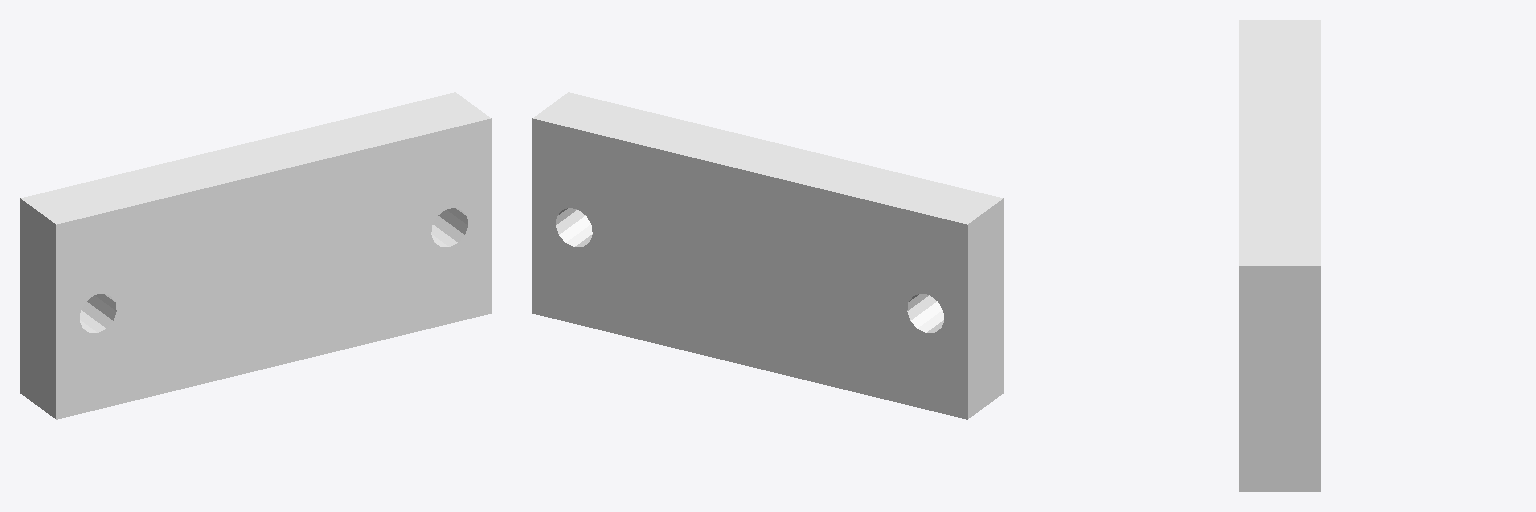
URDF robot description (rigid):
<?xml version="1.0" encoding="utf-8"?>
<!-- This URDF was automatically created by SolidWorks to URDF Exporter! Originally created by [author] ([email redacted]) 
     Commit Version: 1.6.0-4-g7f85cfe  Build Version: 1.6.7995.38578
     For more information, please see http://wiki.ros.org/sw_urdf_exporter -->
<robot
  name="rigid">
  <link
    name="base_link">
    <inertial>
      <origin
        xyz="0 0.25 2.22044604925031E-16"
        rpy="0 0 0" />
      <mass
        value="0.00000423" />
      <inertia
        ixx="544.993861067578"
        ixy="1.13335267097151E-14"
        ixz="2.3443710807071E-13"
        iyy="3029.73989963635"
        iyz="-2.31111593326468E-30"
        izz="2591.17579545603" />
    </inertial>
    <visual>
      <origin
        xyz="0 0 0"
        rpy="0 0 0" />
      <geometry>
        <mesh
          filename="package://rigid/meshes/base_link.STL" />
      </geometry>
      <material
        name="">
        <color
          rgba="1 1 1 1" />
      </material>
    </visual>
    <collision>
      <origin
        xyz="0 0 0"
        rpy="0 0 0" />
      <geometry>
        <mesh
          filename="package://rigid/meshes/base_link.STL" />
      </geometry>
    </collision>
  </link>
</robot>

--- Facts derived from the render (not from the file) ---
The picture shows the robot from 3 angles, left to right: view 1: azimuth 30°, elevation 25°; view 2: azimuth 150°, elevation 25°; view 3: azimuth 270°, elevation 25°; orthographic projection.
Model rigid with 1 links and 0 joints (none), rooted at base_link, posed all joints at 0.
Visible links, largest first — view 1: base_link; view 2: base_link; view 3: base_link.
Boxes of the visible links, x1=… form: base_link: x1=20, y1=92, x2=491, y2=419; base_link: x1=532, y1=92, x2=1003, y2=419; base_link: x1=1239, y1=20, x2=1320, y2=491.
Bounding box of the posed robot: 3.5 × 0.5 × 1.5 m (x, y, z).
1 mesh visuals loaded from 1 distinct referenced files (1 binary STL).